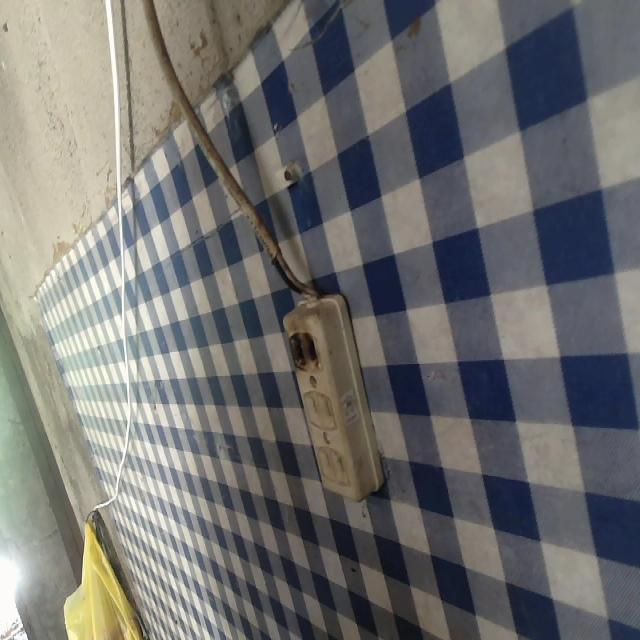-: (283, 326, 319, 374)
